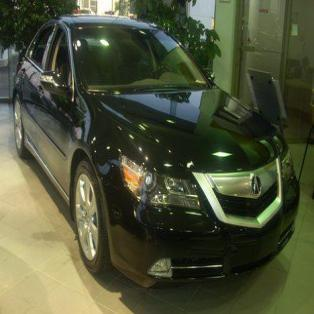Auto: (12, 14, 300, 292)
